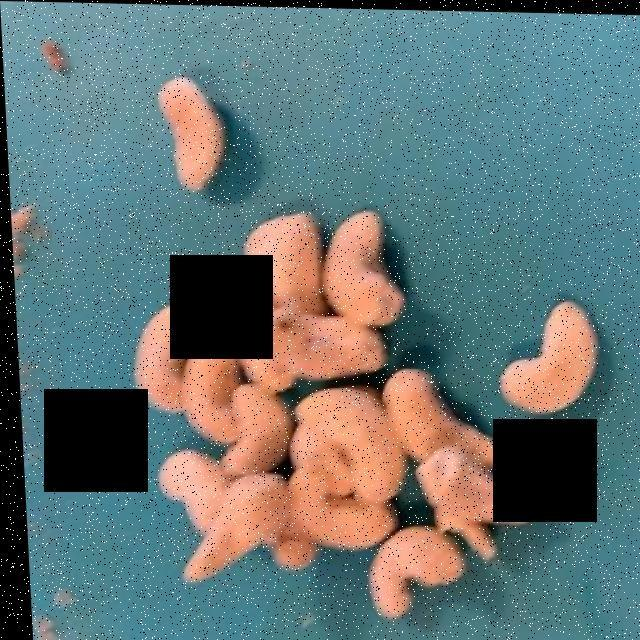cashew-nut: (132, 71, 592, 624)
